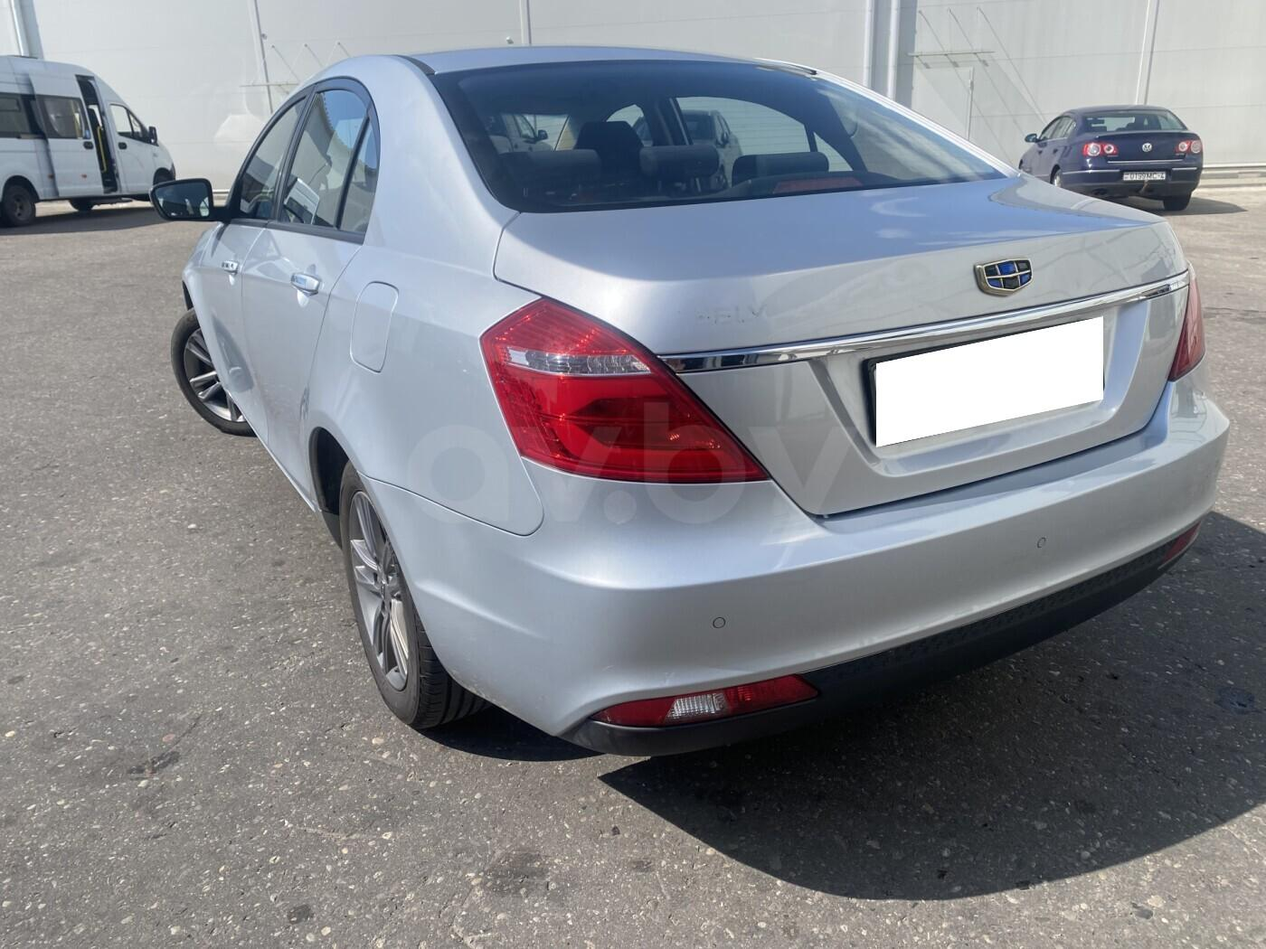Emgrand_2019-2021: (152, 46, 1227, 755)
